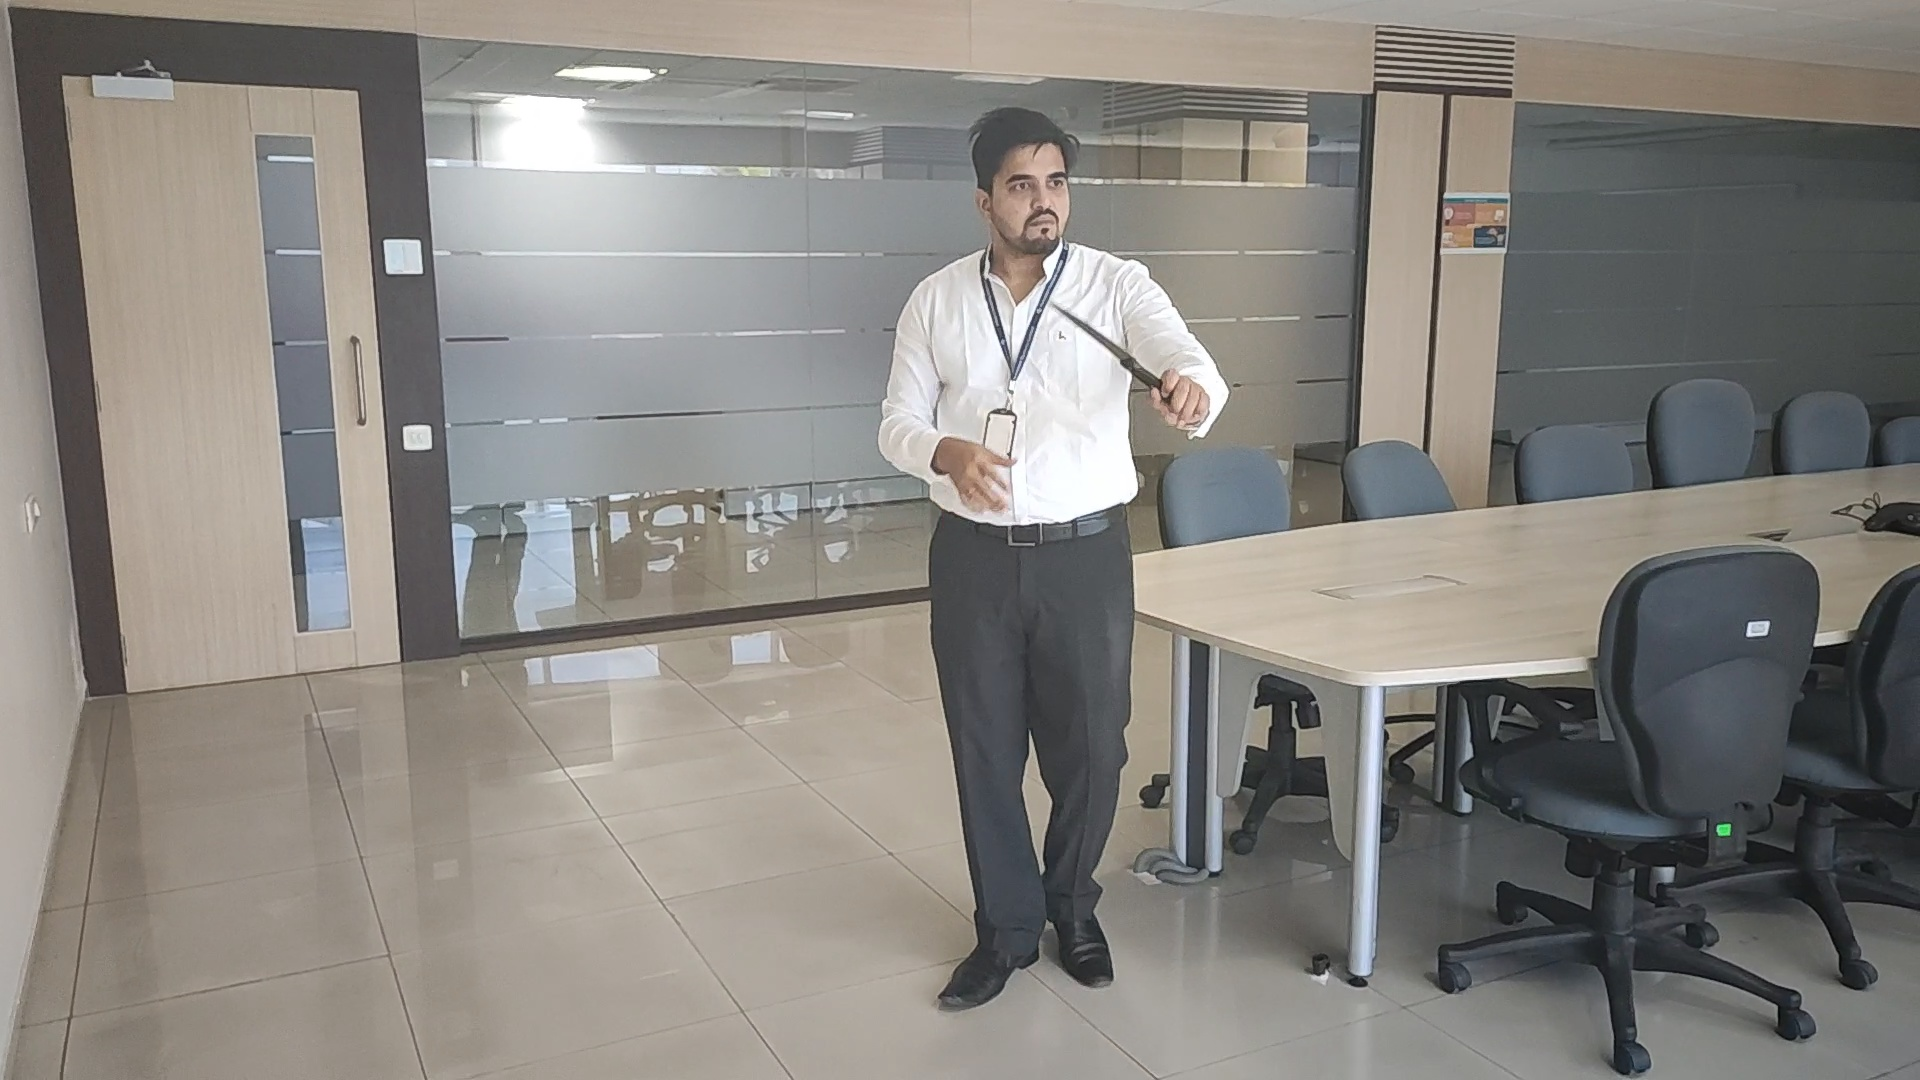knife: (1048, 302, 1154, 382)
